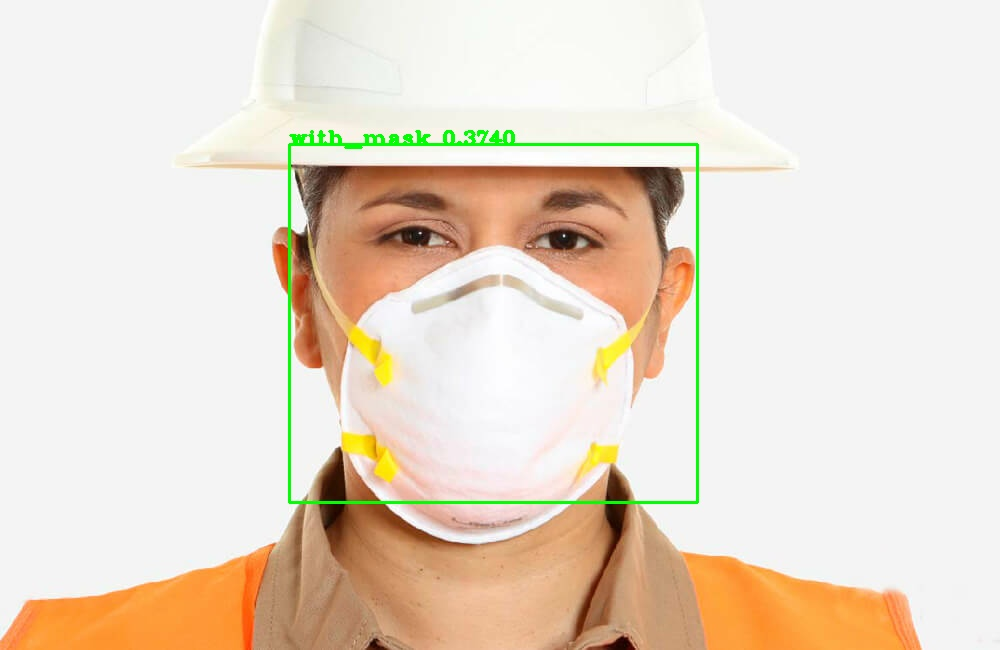with_mask: (221, 31, 784, 571)
